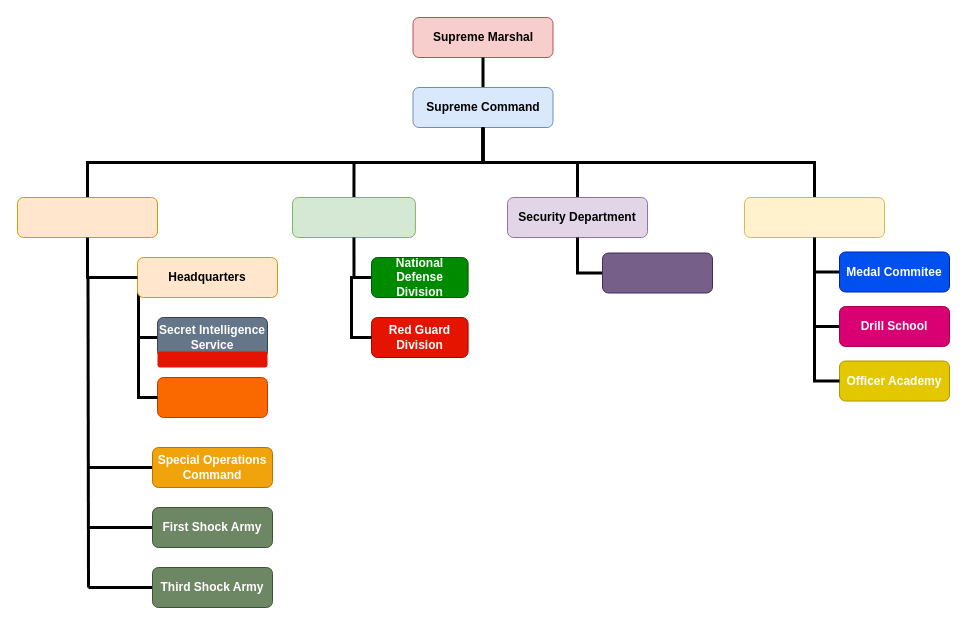
Image size: 967x625. Some labels were removed from this diagram. The centre of each missing label's shape, as x and y in pixels:
"!!!DEACTIVATED!!!" belongs at pixel 212 359.
"Defense Department" belongs at pixel 353 217.
"Military Police" belongs at pixel 657 272.
"Operations Department" belongs at pixel 87 217.
"Training Department" belongs at pixel 814 217.
"Warfare Operations Wing" belongs at pixel 212 397.
